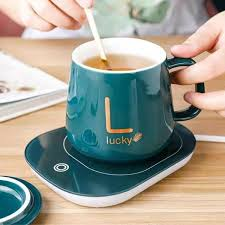mug: (55, 34, 208, 169)
